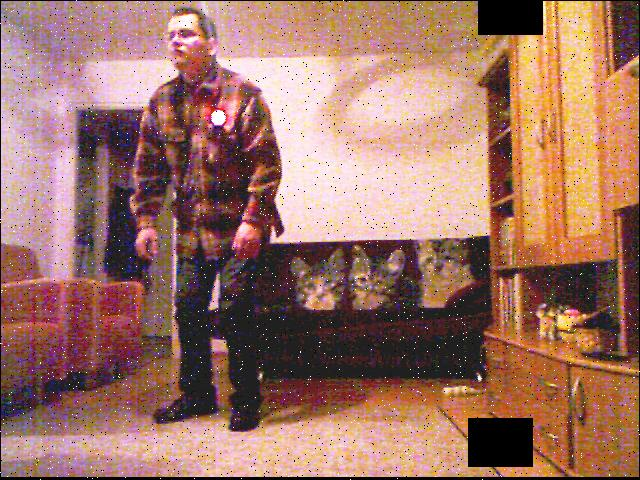bending: (127, 1, 303, 437)
